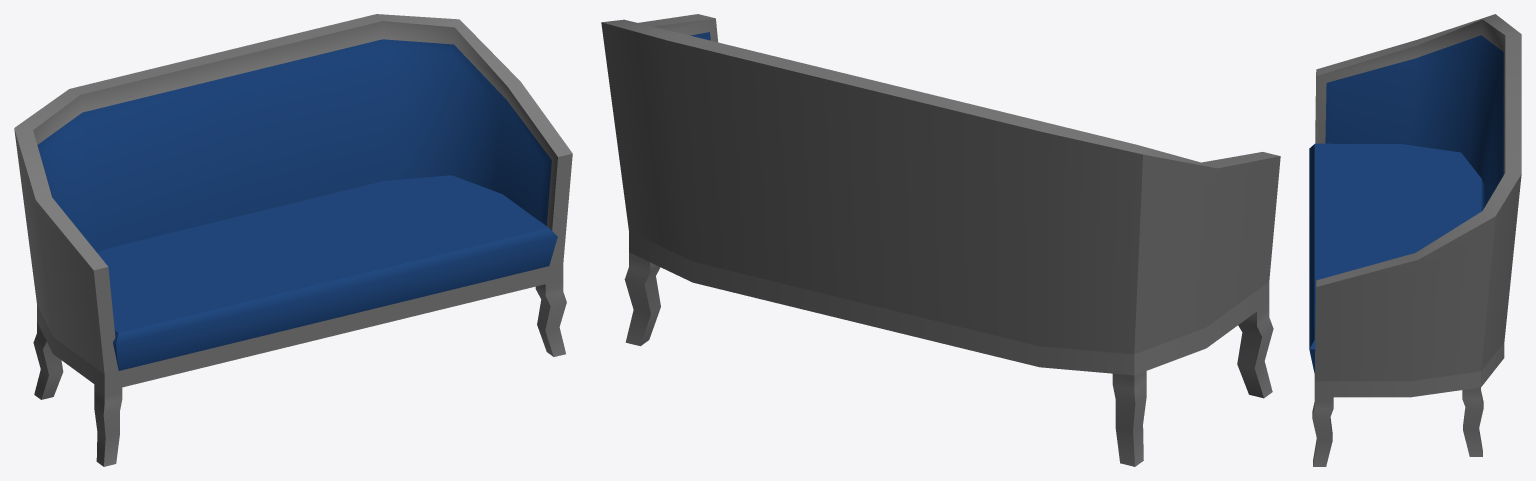
Rendered from sofa.FBX.
3 views of the same model, side by side, from view 1: azimuth 30°, elevation 25°; view 2: azimuth 150°, elevation 25°; view 3: azimuth 270°, elevation 25° (orthographic). The views are drawn at different scales.
Parts seen in each view (by area): view 1: sofa; view 2: sofa; view 3: sofa.
Part boxes in pixels (left/top/right/bottom): sofa: left=14, top=14, right=572, bottom=466; sofa: left=601, top=14, right=1280, bottom=466; sofa: left=1309, top=14, right=1521, bottom=466.
Size of the model in its own units: 275 by 150 by 112.
